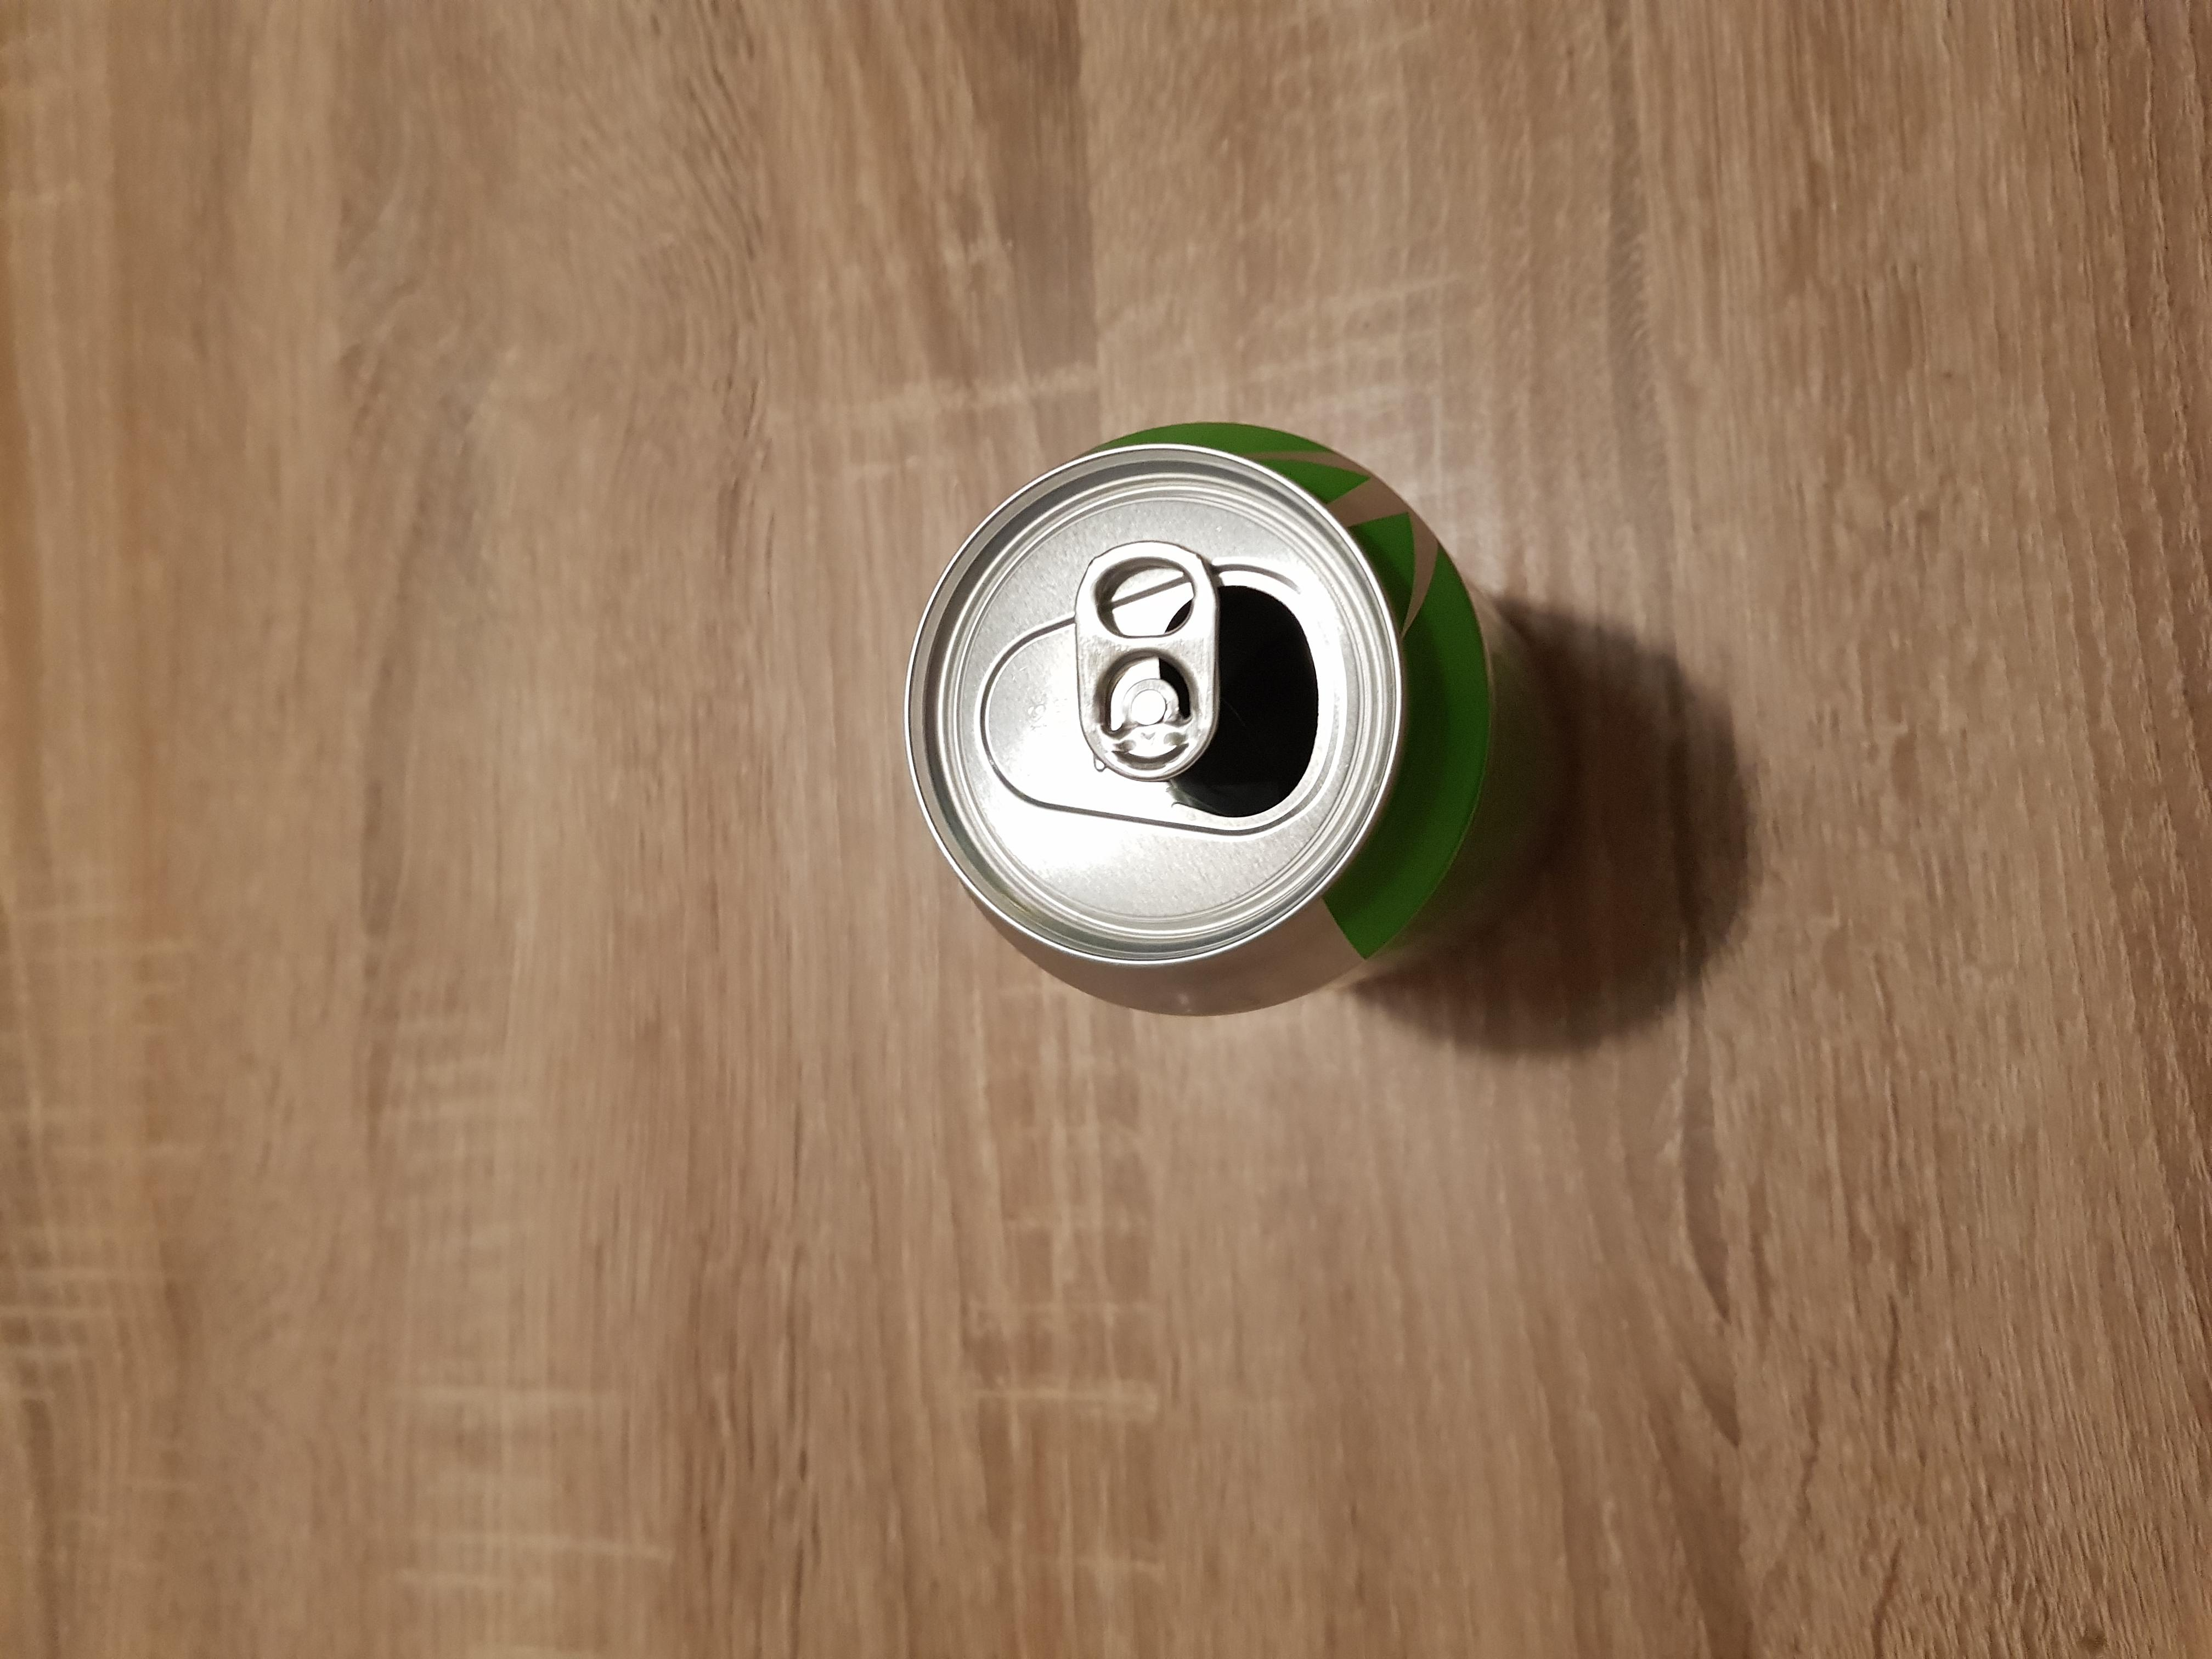Can: (892, 418, 1573, 1016)
